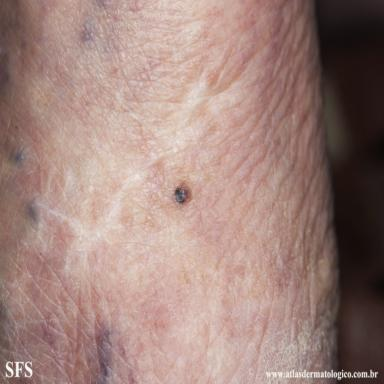Melanoma: (174, 183, 191, 205)
